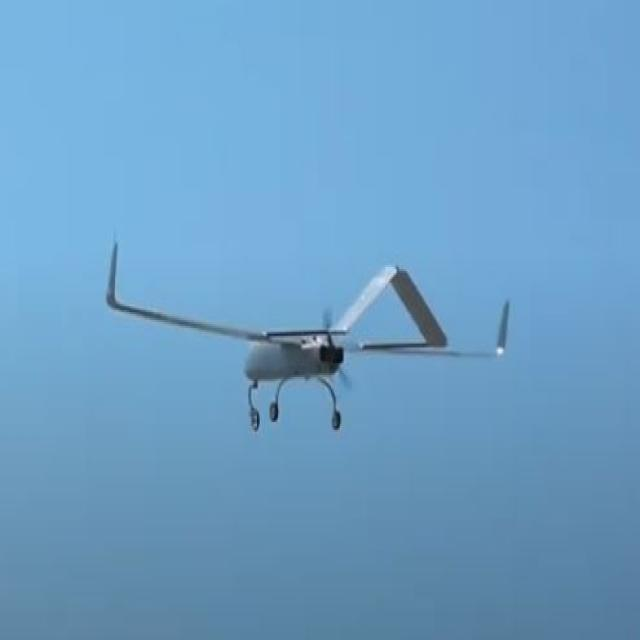iha: (106, 238, 512, 433)
